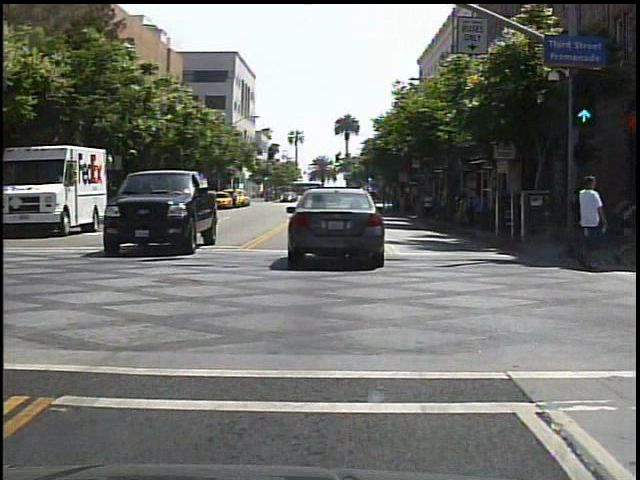person: (570, 164, 611, 271), (576, 172, 608, 265), (419, 189, 437, 223)
